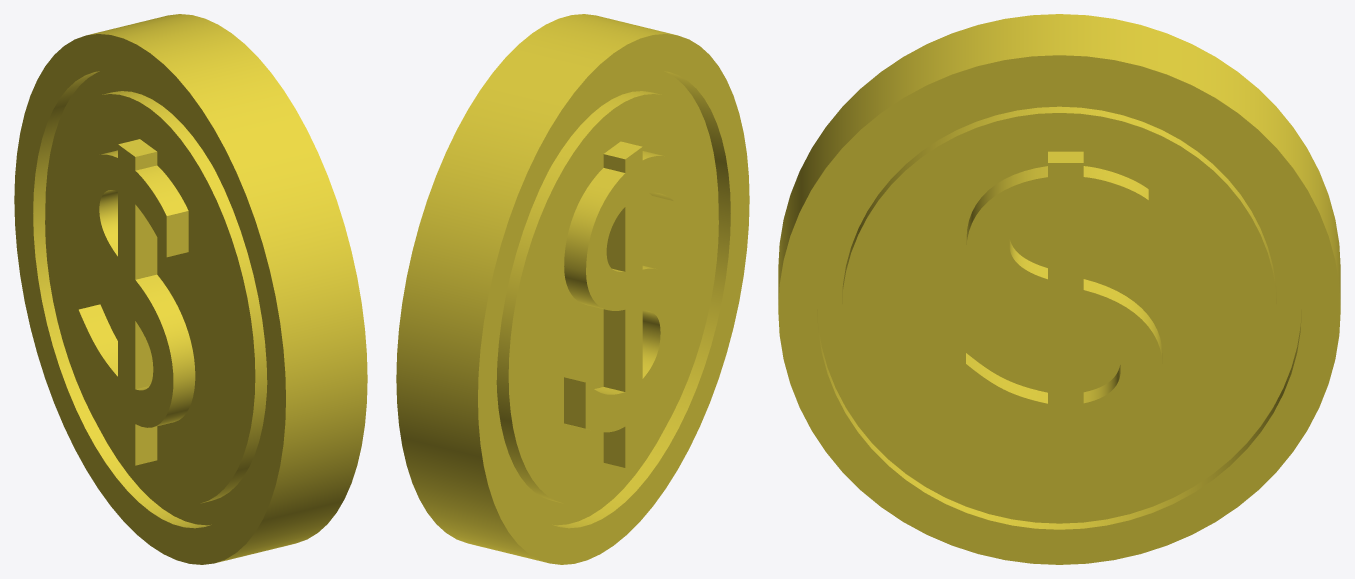
The model's file is Coin.glb.
3 views of the same model, side by side, from view 1: azimuth 30°, elevation 25°; view 2: azimuth 150°, elevation 25°; view 3: azimuth 270°, elevation 25° (orthographic). The views are drawn at different scales.
Visible parts, largest first — view 1: Coin; view 2: Coin; view 3: Coin.
Part boxes in pixels (x1,y1,x2,y2): Coin: [14, 14, 367, 564]; Coin: [396, 14, 749, 564]; Coin: [778, 14, 1340, 564].
Size of the model in its own units: 0.5325 by 2 by 2.
1 material, 1 textured.
